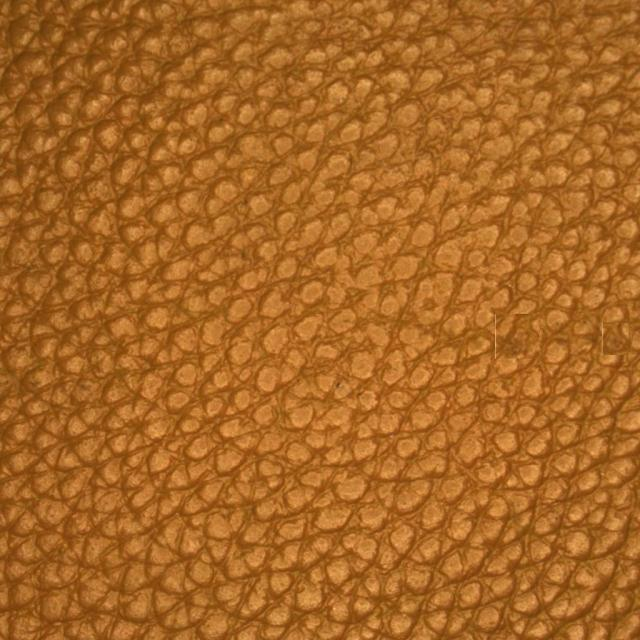Healed Injury: (460, 262, 621, 400)
